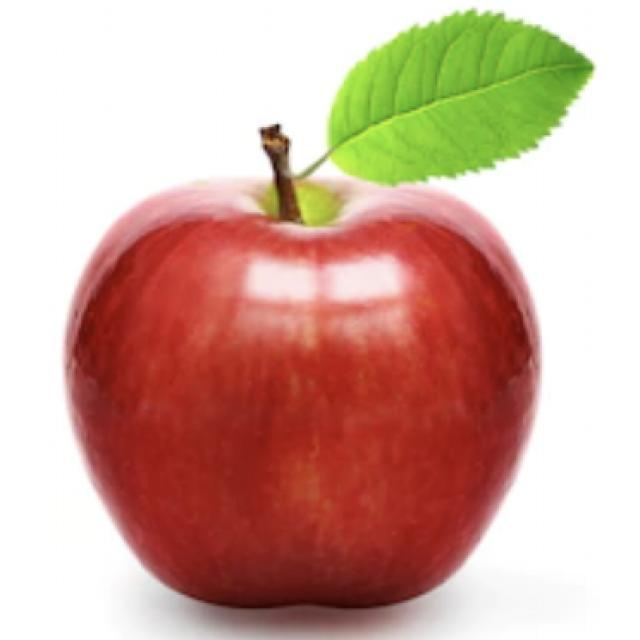Fresh Apple: (46, 184, 526, 598)
